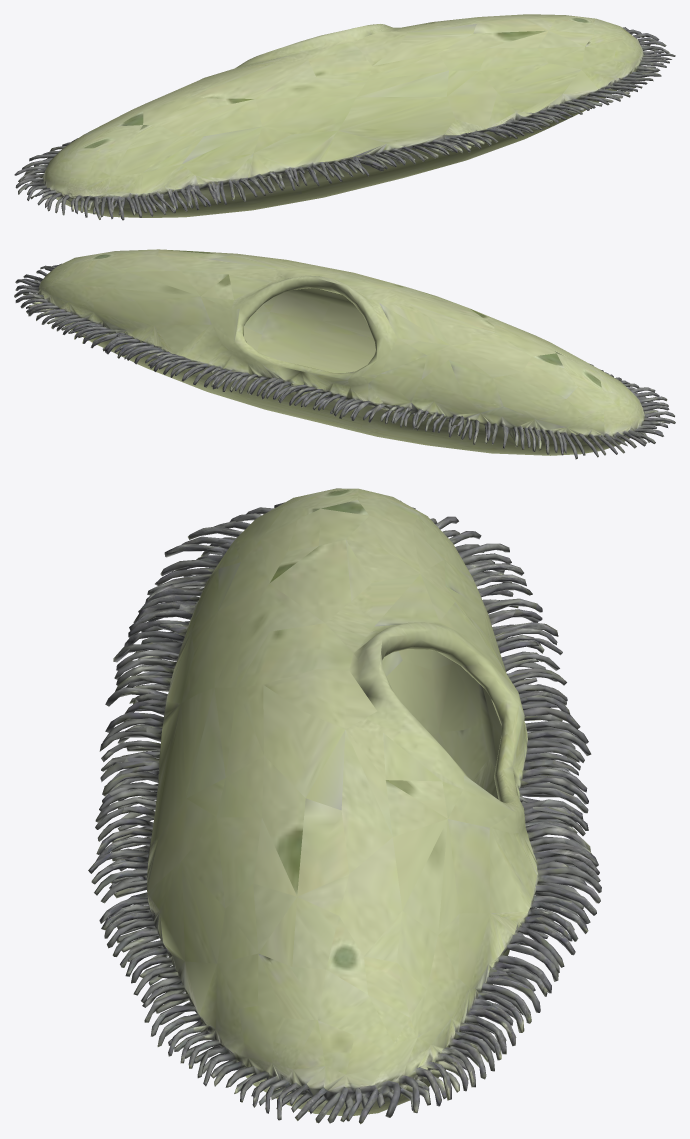
File: paramecium.glb
The picture shows the model from 3 angles, top to bottom: view 1: azimuth 30°, elevation 25°; view 2: azimuth 150°, elevation 25°; view 3: azimuth 270°, elevation 25°; orthographic projection. The views are drawn at different scales.
Visible parts, largest first — view 1: lod15000; view 2: lod15000; view 3: lod15000.
Boxes of the visible parts, bbox=[...] form: lod15000: bbox=[14, 14, 675, 220]; lod15000: bbox=[14, 249, 675, 459]; lod15000: bbox=[88, 488, 601, 1124].
Bounding box in the file's own units: 1.9 × 0.404 × 0.6635.
1 material, 1 textured.
